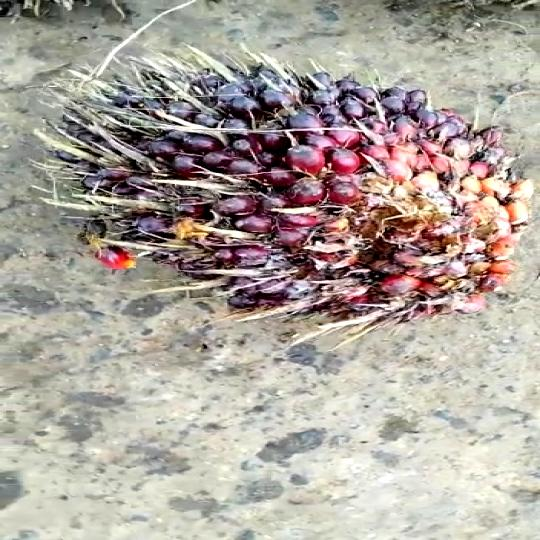kurang masak: (56, 51, 540, 345)
